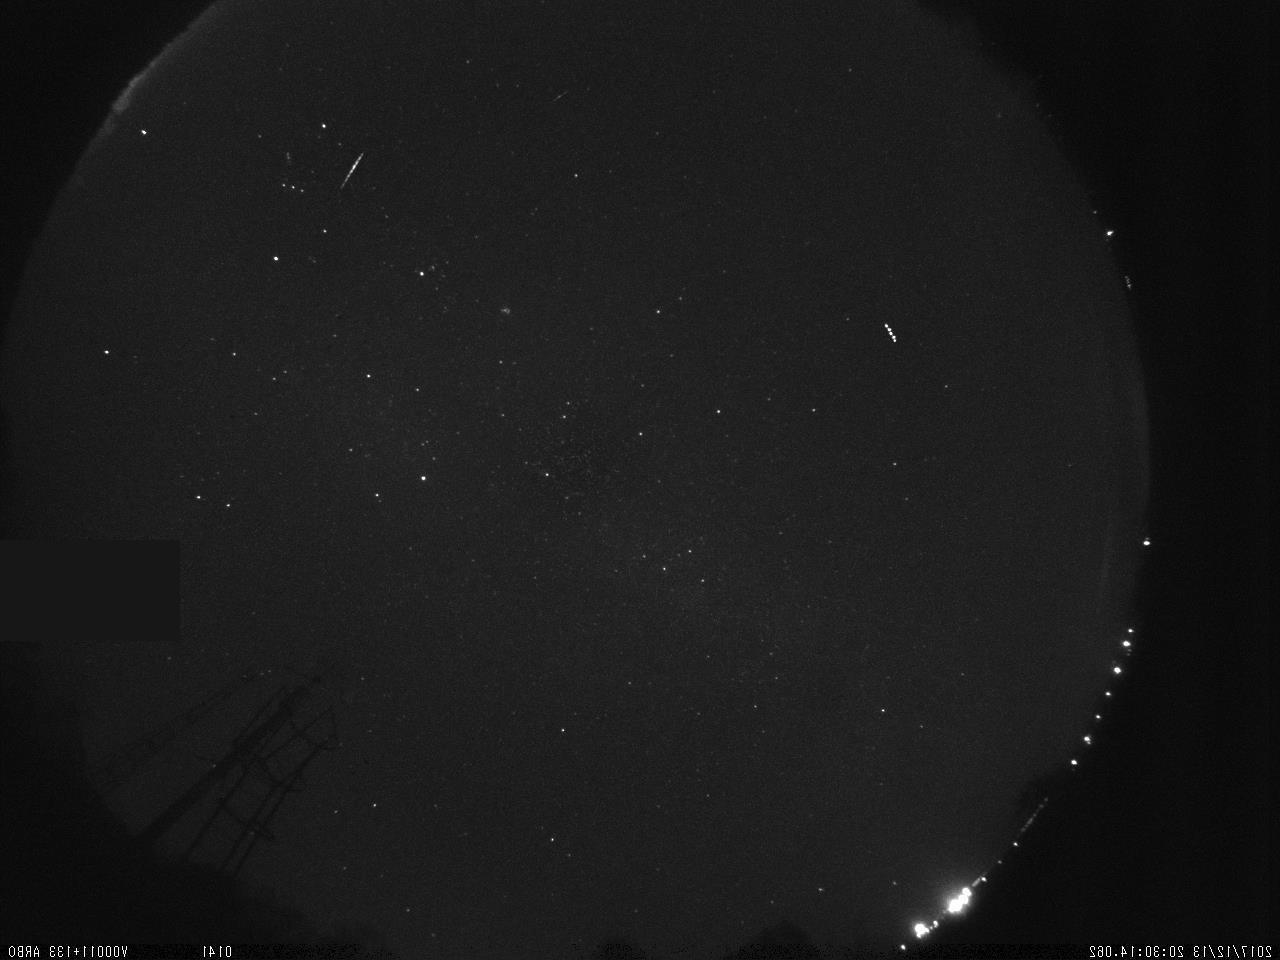meteor: (333, 150, 370, 196)
satelite: (876, 317, 903, 354)
